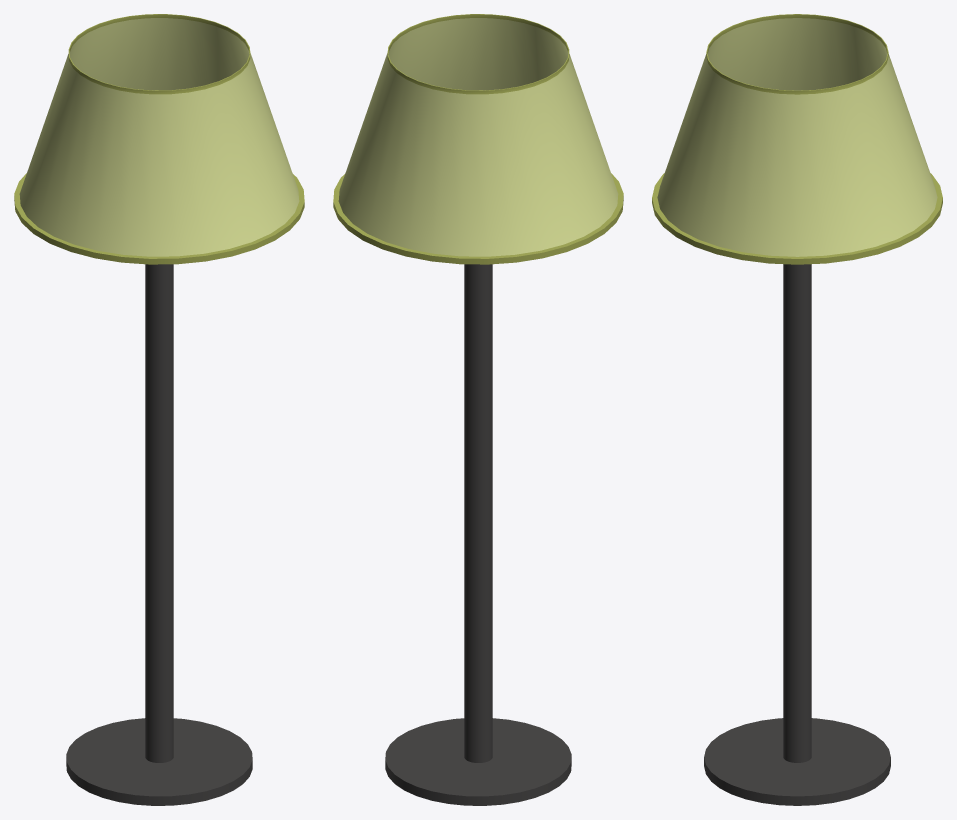
The model's file is LamparaDePie.fbx.
3 renders of one model, left to right at view 1: azimuth 30°, elevation 25°; view 2: azimuth 150°, elevation 25°; view 3: azimuth 270°, elevation 25°, orthographic.
Parts seen in each view (by area): view 1: LamparaDePie; view 2: LamparaDePie; view 3: LamparaDePie.
Part boxes in pixels (<box>): LamparaDePie: <box>14,14,304,805</box>; LamparaDePie: <box>333,14,623,805</box>; LamparaDePie: <box>652,14,942,805</box>.
Size of the model in its own units: 98.27 by 266 by 98.27.
